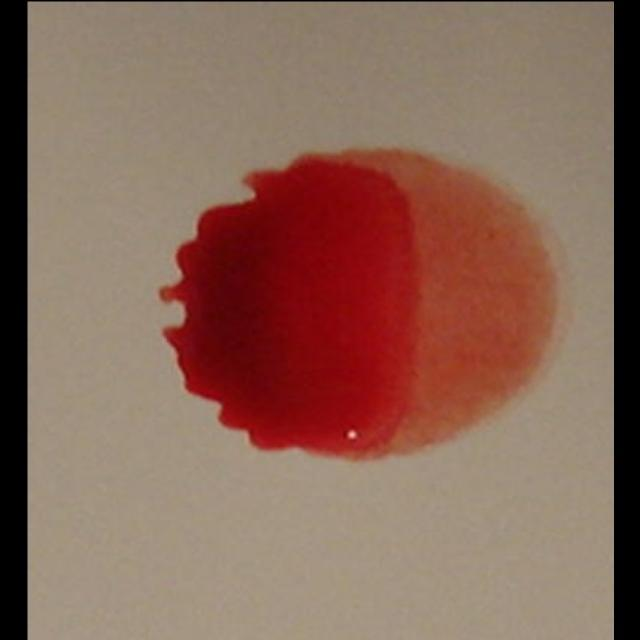blood: (158, 147, 560, 458)
